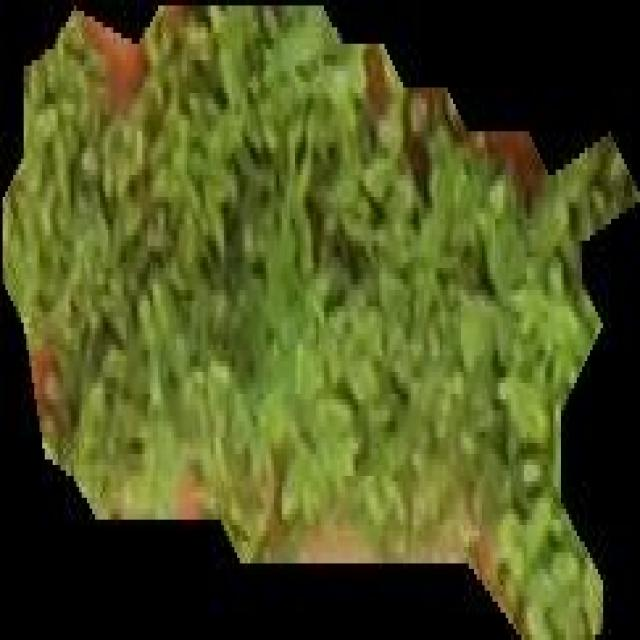Weed: (2, 4, 640, 640)
